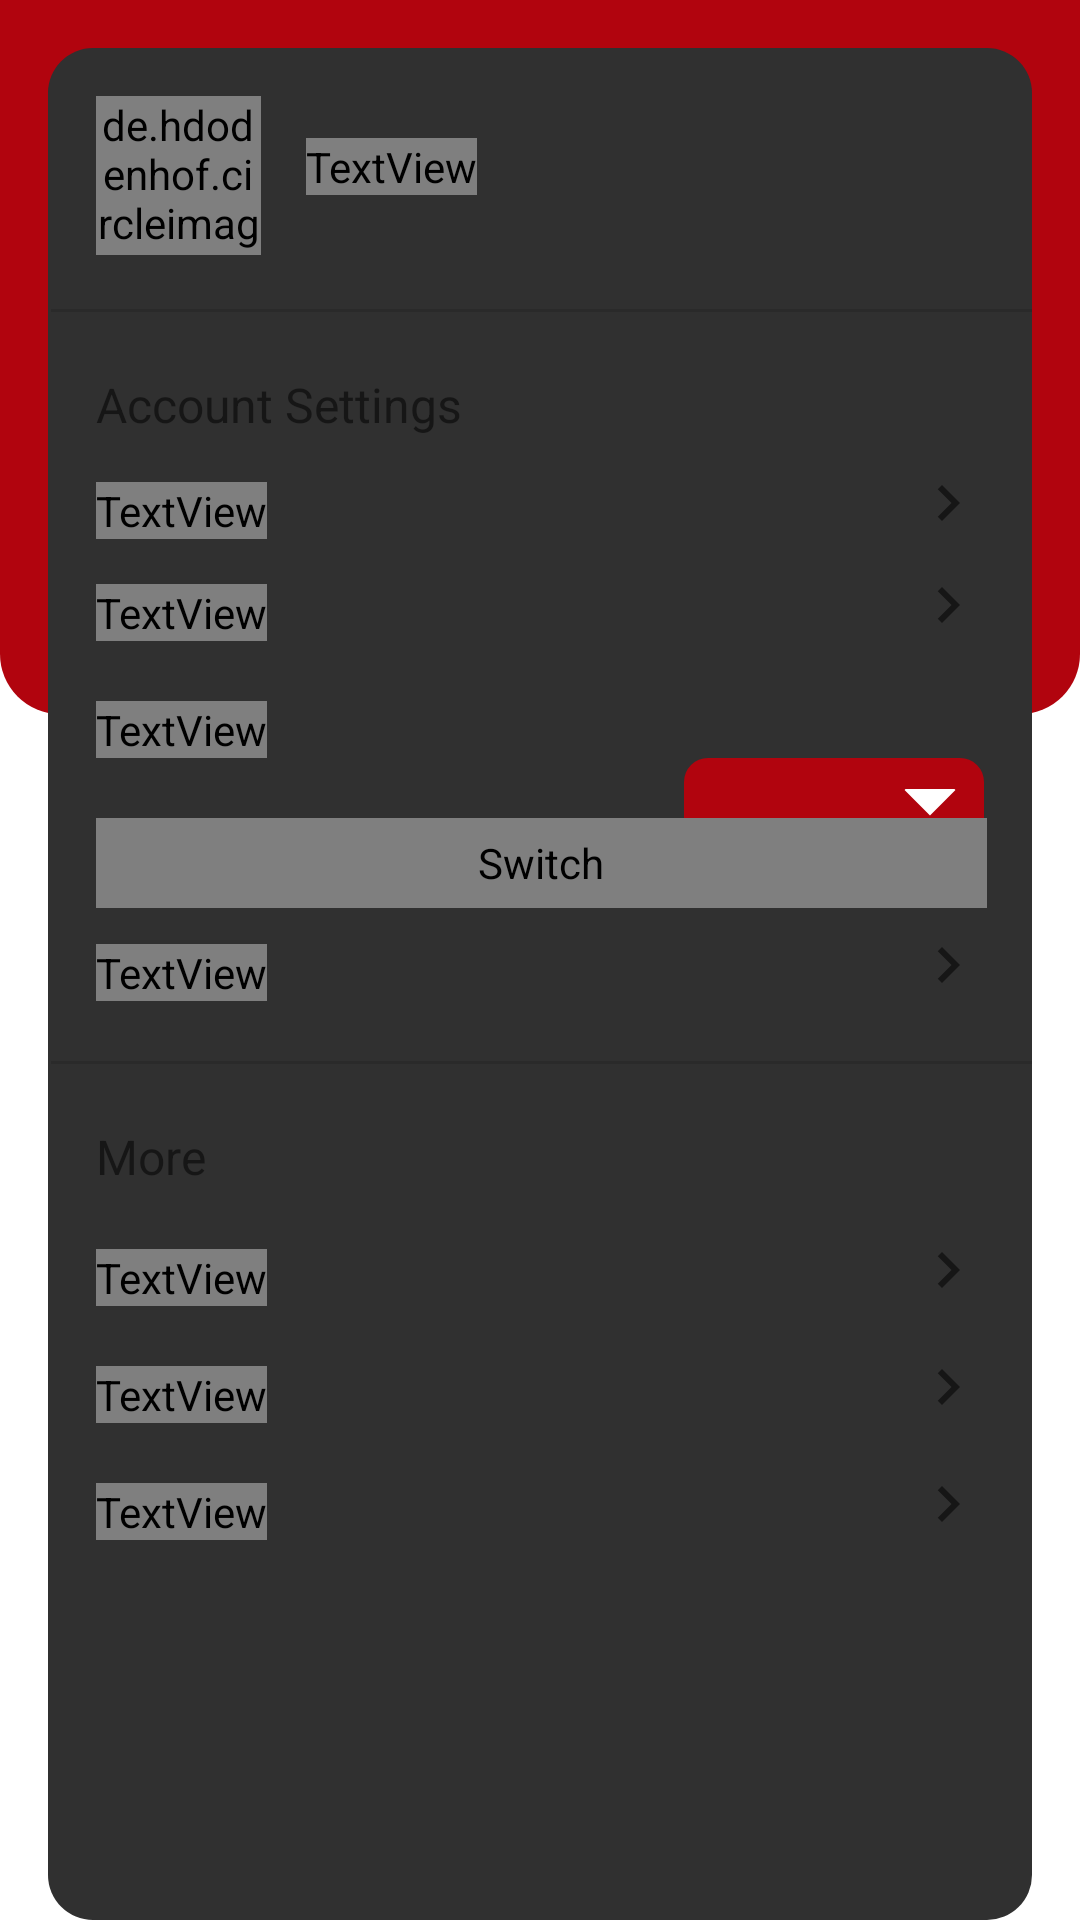

Locate icon controls on the screen. Image size 1080px x 1920px, boxes as box=[x1, y1, x2, y2].
arrow right: box=[939, 486, 959, 520], box=[939, 588, 959, 622], box=[939, 948, 959, 982], box=[939, 1253, 959, 1287], box=[939, 1370, 959, 1404], box=[939, 1487, 959, 1521]
